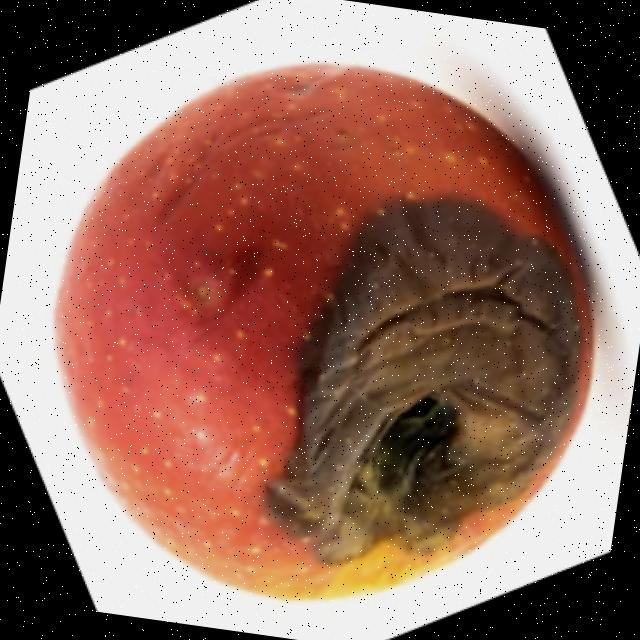Rotten: (9, 20, 636, 640)
